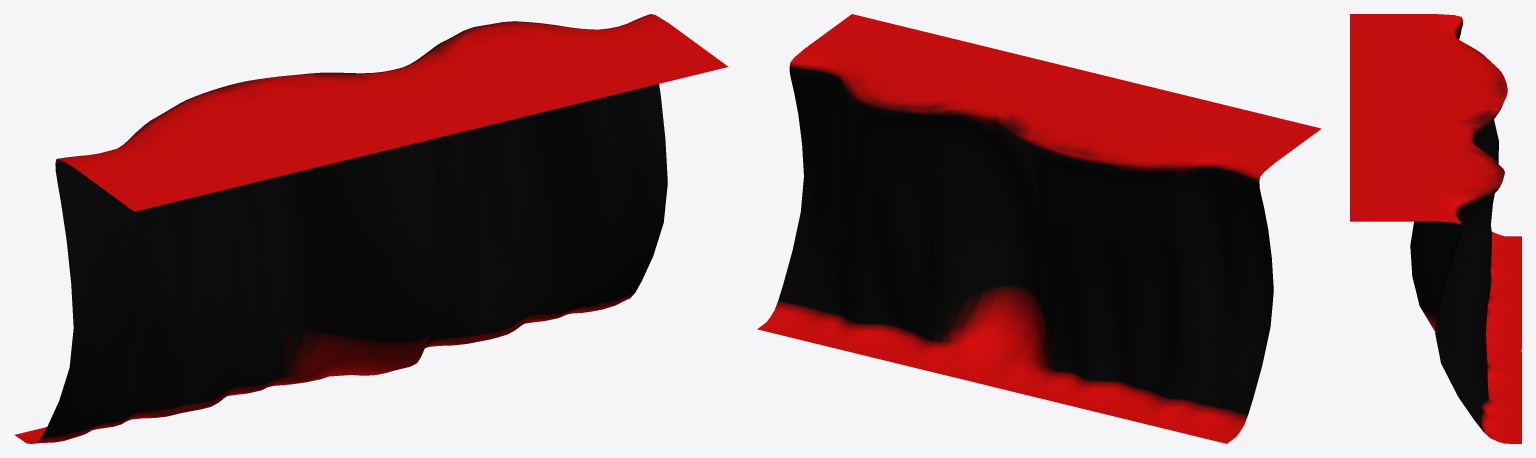
File: GroundCliff02C 2M Foreground.fbx
3 views of the same model, side by side, from view 1: azimuth 30°, elevation 25°; view 2: azimuth 150°, elevation 25°; view 3: azimuth 270°, elevation 25° (orthographic). The views are drawn at different scales.
Parts seen in each view (by area): view 1: GroundCliff02C 2M Foreground; view 2: GroundCliff02C 2M Foreground; view 3: GroundCliff02C 2M Foreground.
Part boxes in pixels (x1,y1,x2,y2): GroundCliff02C 2M Foreground: [15, 14, 728, 443]; GroundCliff02C 2M Foreground: [757, 14, 1321, 443]; GroundCliff02C 2M Foreground: [1350, 14, 1521, 443].
Size of the model in its own units: 4 by 2 by 1.4.
